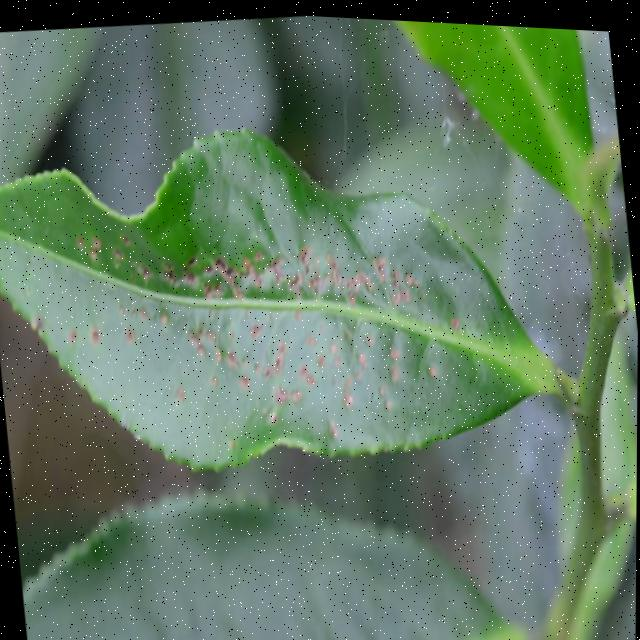Tea red scab: (50, 186, 458, 453)
